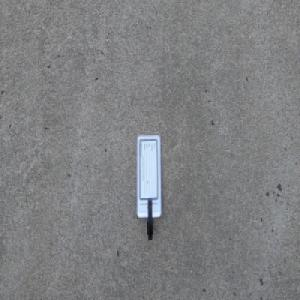LuggageTag: (135, 133, 162, 243)
